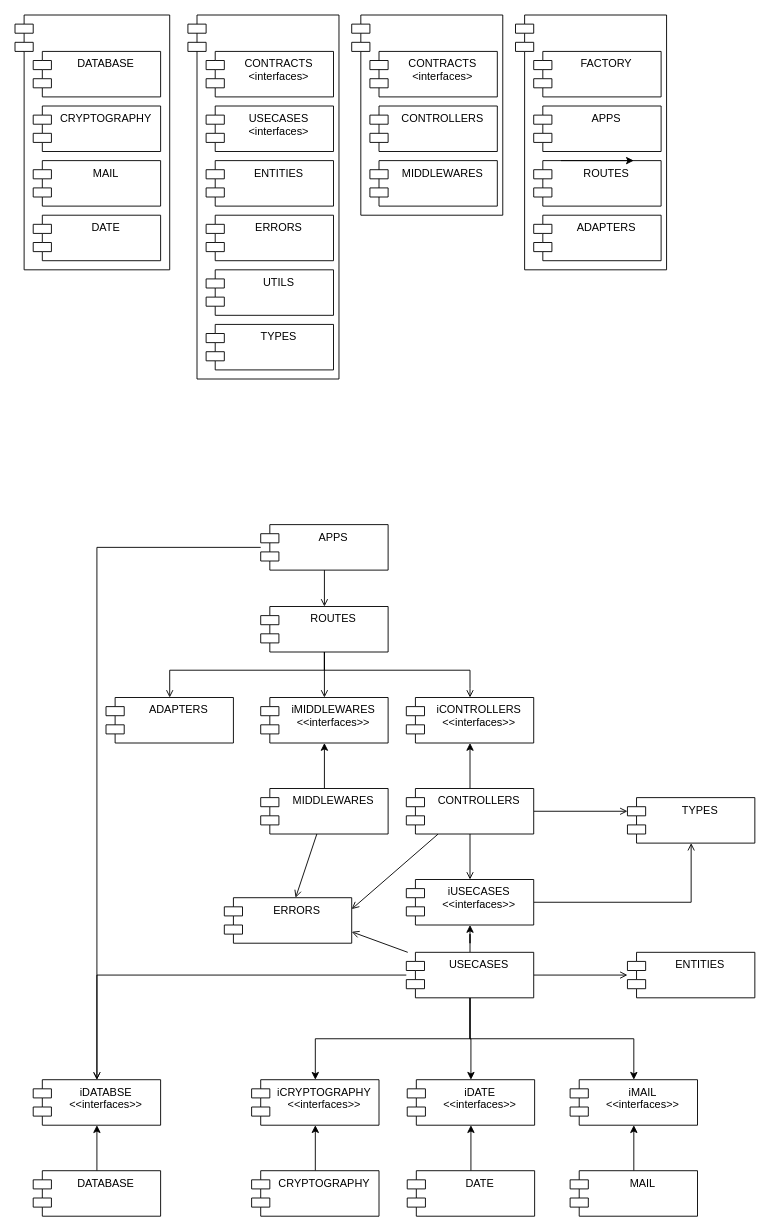
This 770x1231 diagram has some shape labels left out. The box of each missing label's shape, as (x1, y1, x2, y2) in pixels:
APPLICATION: (351, 14, 503, 215)
DOMAIN: (187, 14, 339, 379)
INFRASTRUCTURE: (14, 14, 170, 270)
MAIN: (515, 14, 667, 270)
